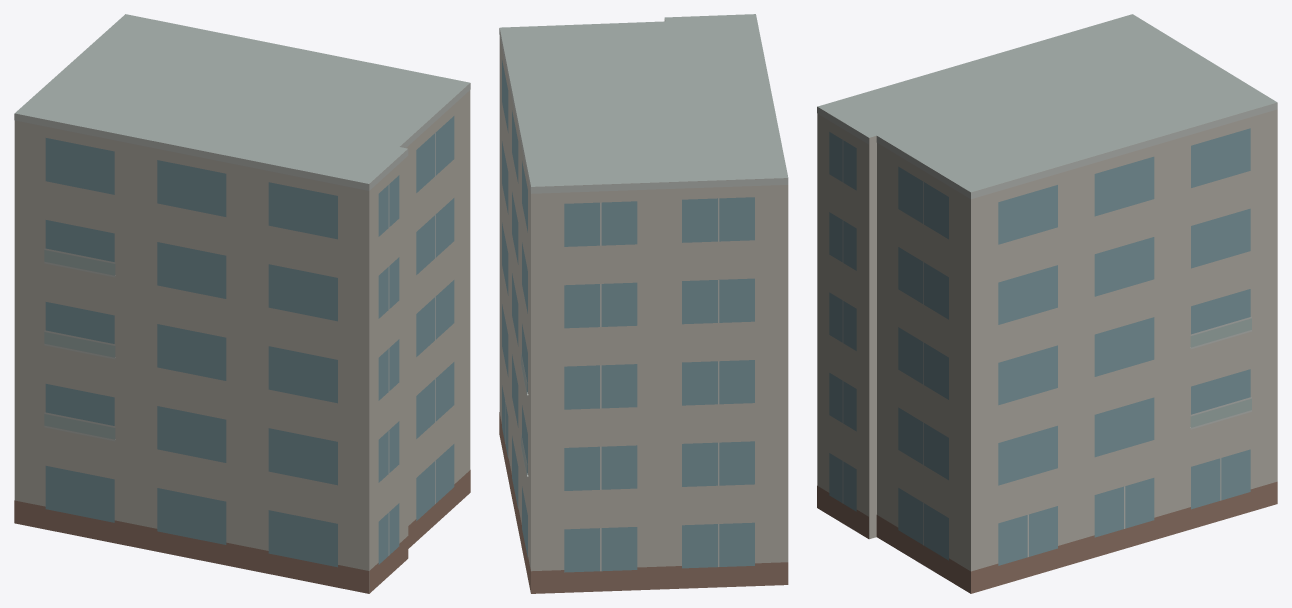
File: survey-upis-32530184.glb
3 renders of one model, left to right at view 1: azimuth 30°, elevation 25°; view 2: azimuth 150°, elevation 25°; view 3: azimuth 270°, elevation 25°, orthographic. The views are drawn at different scales.
Visible parts, largest first — view 1: survey-upis-32530184.tmp; view 2: survey-upis-32530184.tmp; view 3: survey-upis-32530184.tmp.
Part boxes in pixels (x1,y1,x2,y2): survey-upis-32530184.tmp: [14, 14, 470, 593]; survey-upis-32530184.tmp: [499, 14, 788, 593]; survey-upis-32530184.tmp: [817, 14, 1277, 593].
Bounding box in the file's own units: 13.69 × 14.35 × 14.93.
